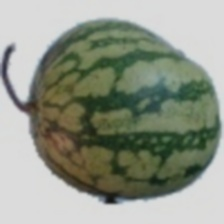watermelon: (40, 22, 178, 161)
